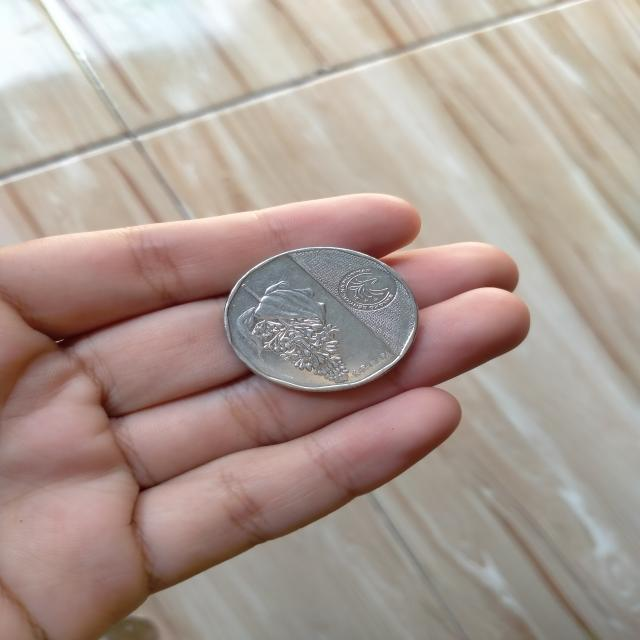10_New_Back: (234, 272, 360, 382)
